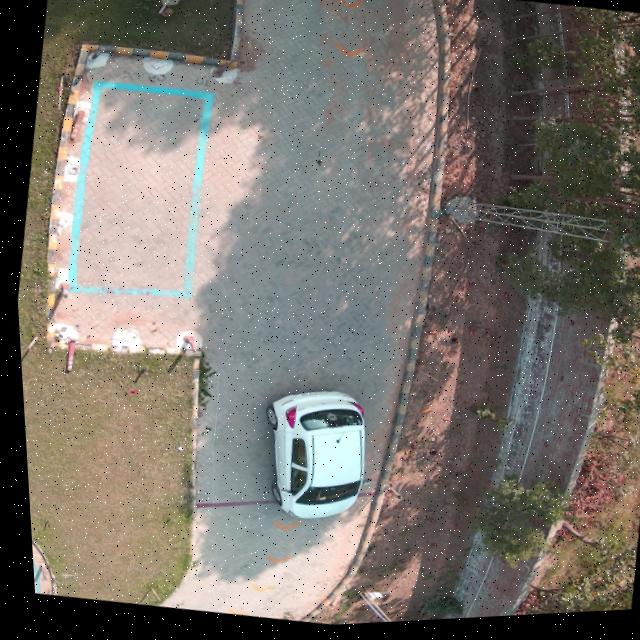car: (260, 394, 362, 522)
